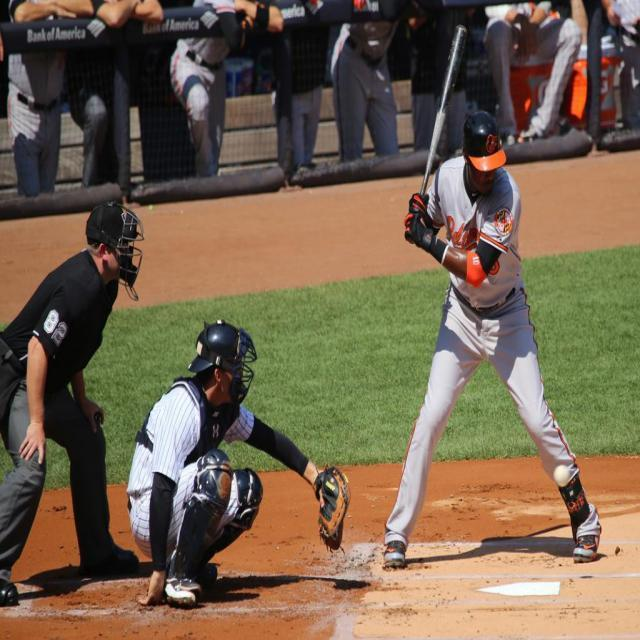ball: (552, 464, 574, 490)
bat: (420, 22, 470, 195)
